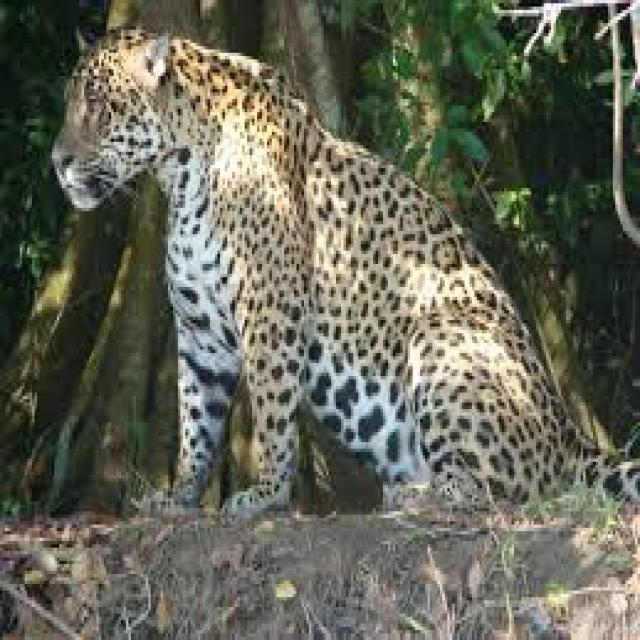Jaguar: (59, 40, 586, 475)
